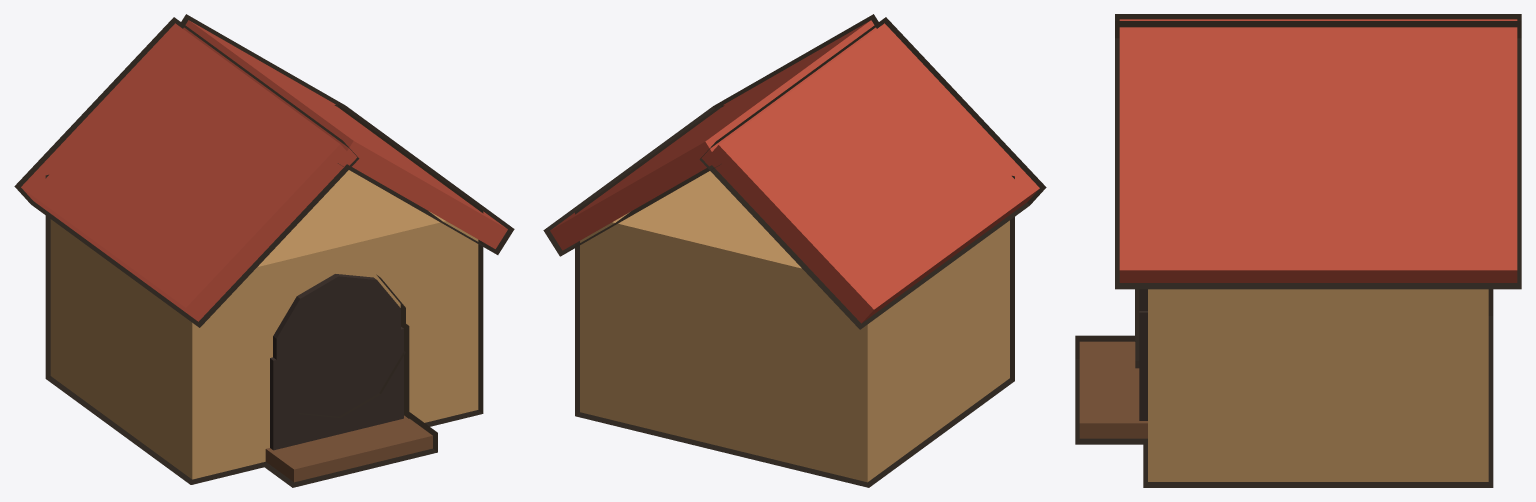
Rendered from cat_house_01.glb.
The picture shows the model from 3 angles, left to right: view 1: azimuth 30°, elevation 25°; view 2: azimuth 150°, elevation 25°; view 3: azimuth 270°, elevation 25°; orthographic projection. The views are drawn at different scales.
Parts seen in each view (by area): view 1: OBJ_cat_house_01; view 2: OBJ_cat_house_01; view 3: OBJ_cat_house_01.
Part boxes in pixels (left/top/right/bottom): OBJ_cat_house_01: left=14, top=14, right=514, bottom=487; OBJ_cat_house_01: left=543, top=14, right=1046, bottom=487; OBJ_cat_house_01: left=1075, top=14, right=1521, bottom=487.
Bounding box in the file's own units: 0.8115 × 0.7467 × 0.786.
